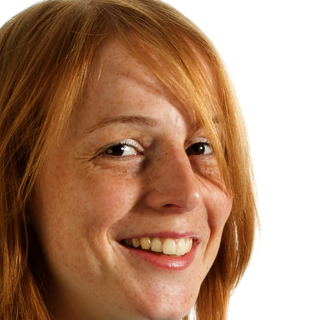eye: (91, 134, 147, 164), (182, 135, 220, 163)
